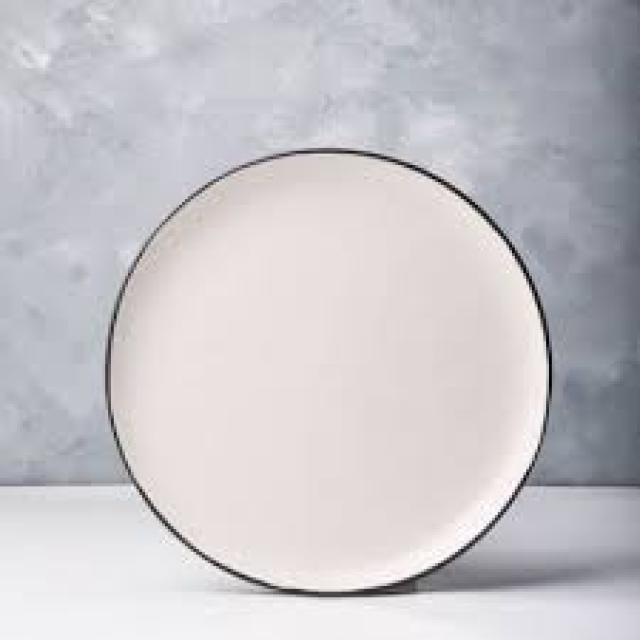Plate: (89, 117, 564, 615)
